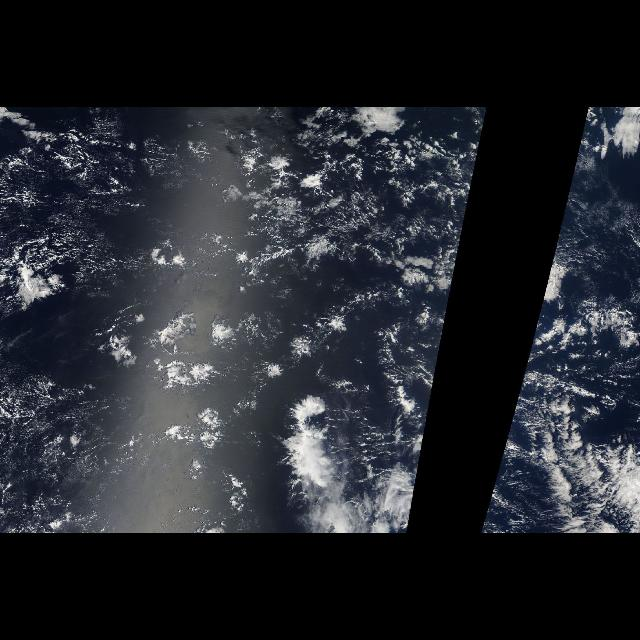Flower: (90, 304, 284, 454)
